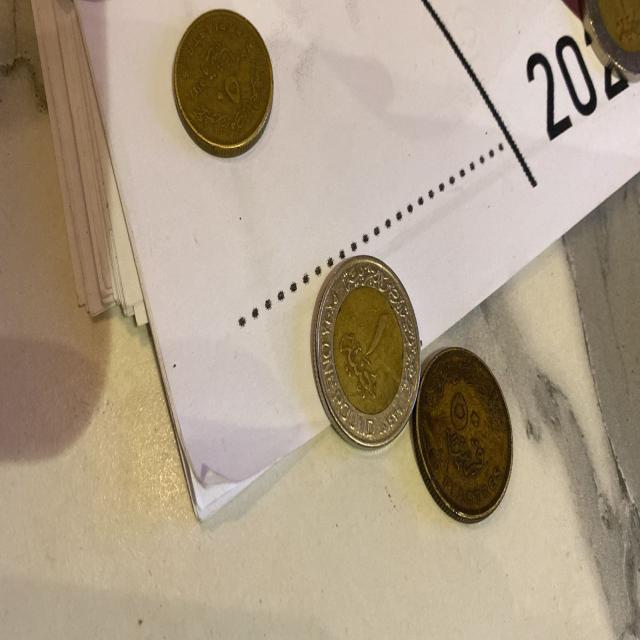Half Pound: (419, 338, 518, 514), (174, 8, 276, 156)
One Pound: (310, 256, 424, 452), (581, 0, 640, 78)
